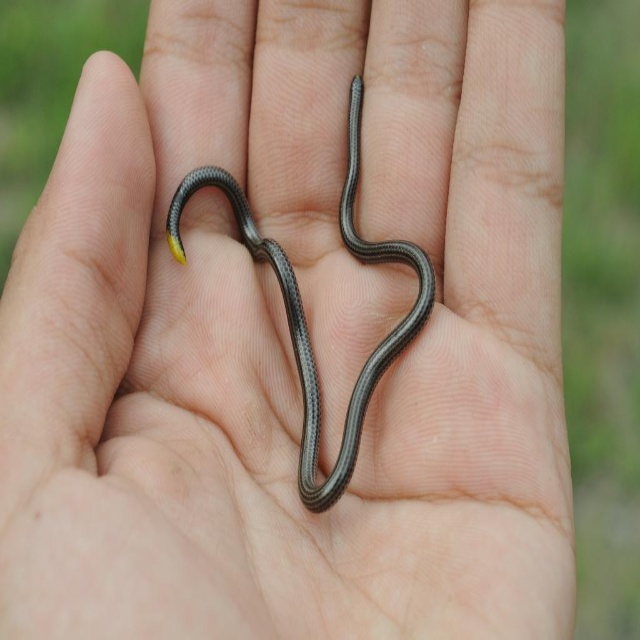Snake: (165, 77, 435, 513)
